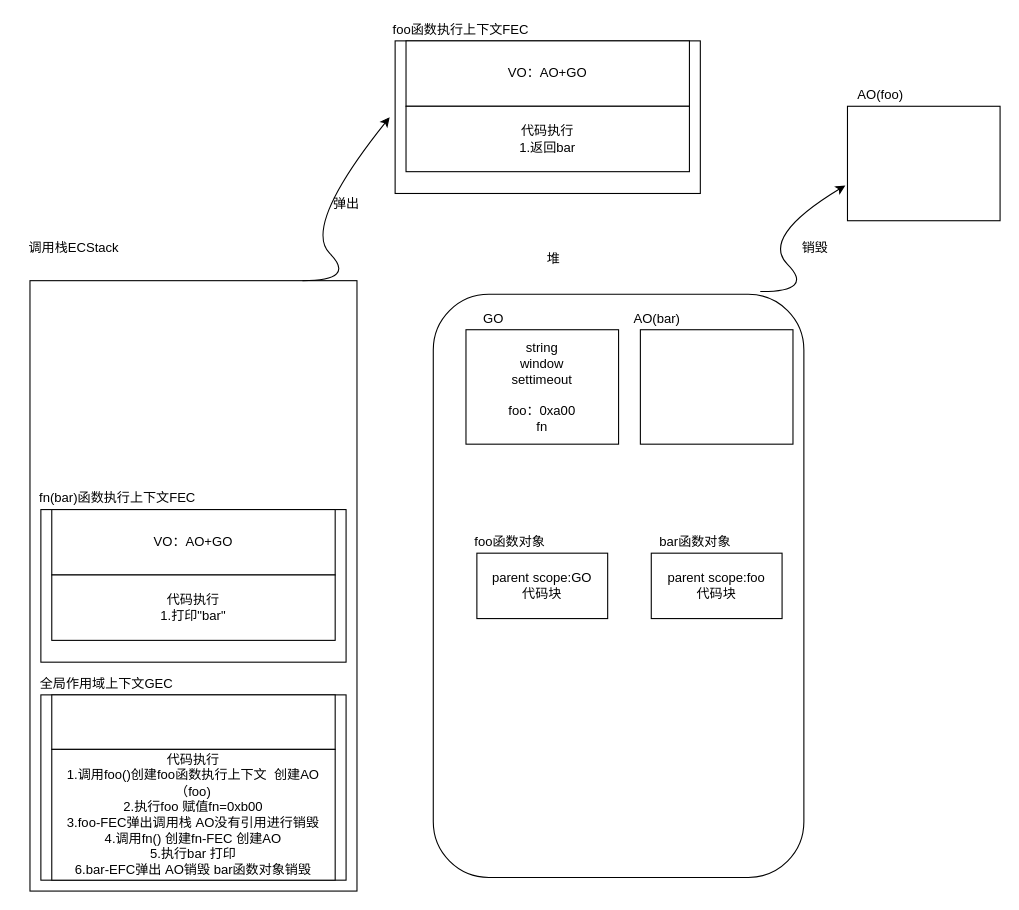
This 1019x910 diagram has some shape labels left out. Here are the shapes that lost their labels. From the top down, the centre of each, then its label:
At point (923, 163): "bar：0xb00".
At point (193, 721): "VO:GO".
